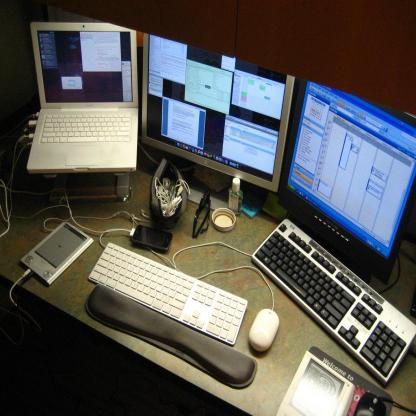board: (27, 21, 138, 174), (228, 177, 242, 218)
